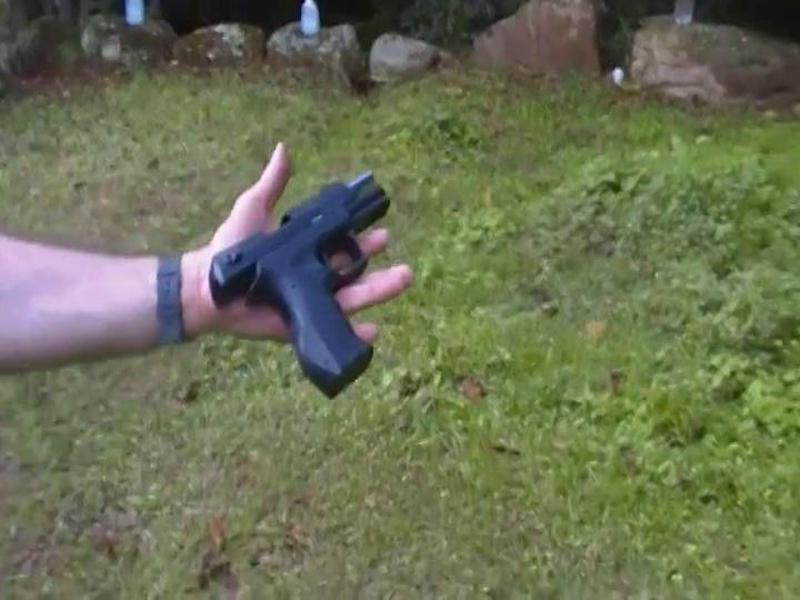Pistola: (189, 150, 409, 402)
